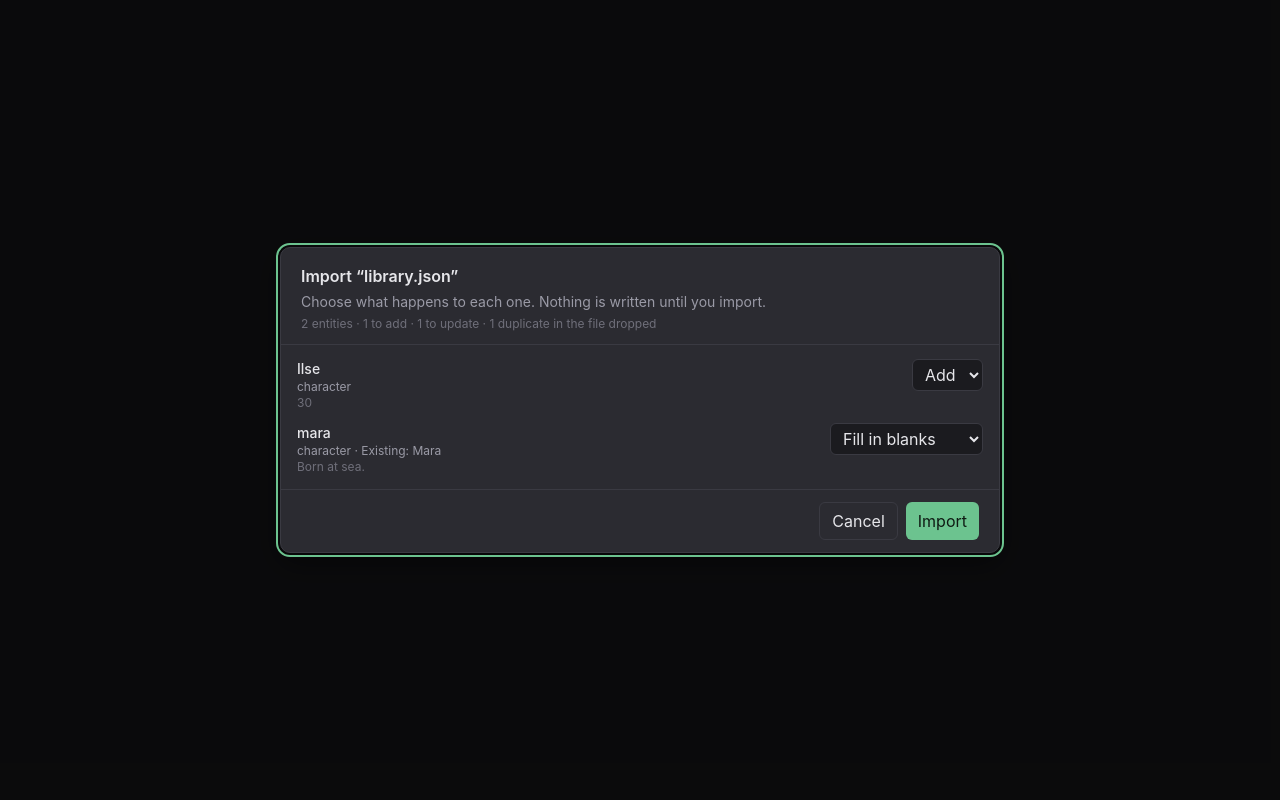
Test: EntityImportDialog (F-9.5) › Import is refused while every row is skipped
Select "Skip" in the dropdown named "Action for Ilse": (948,375) [912,359,983,391]
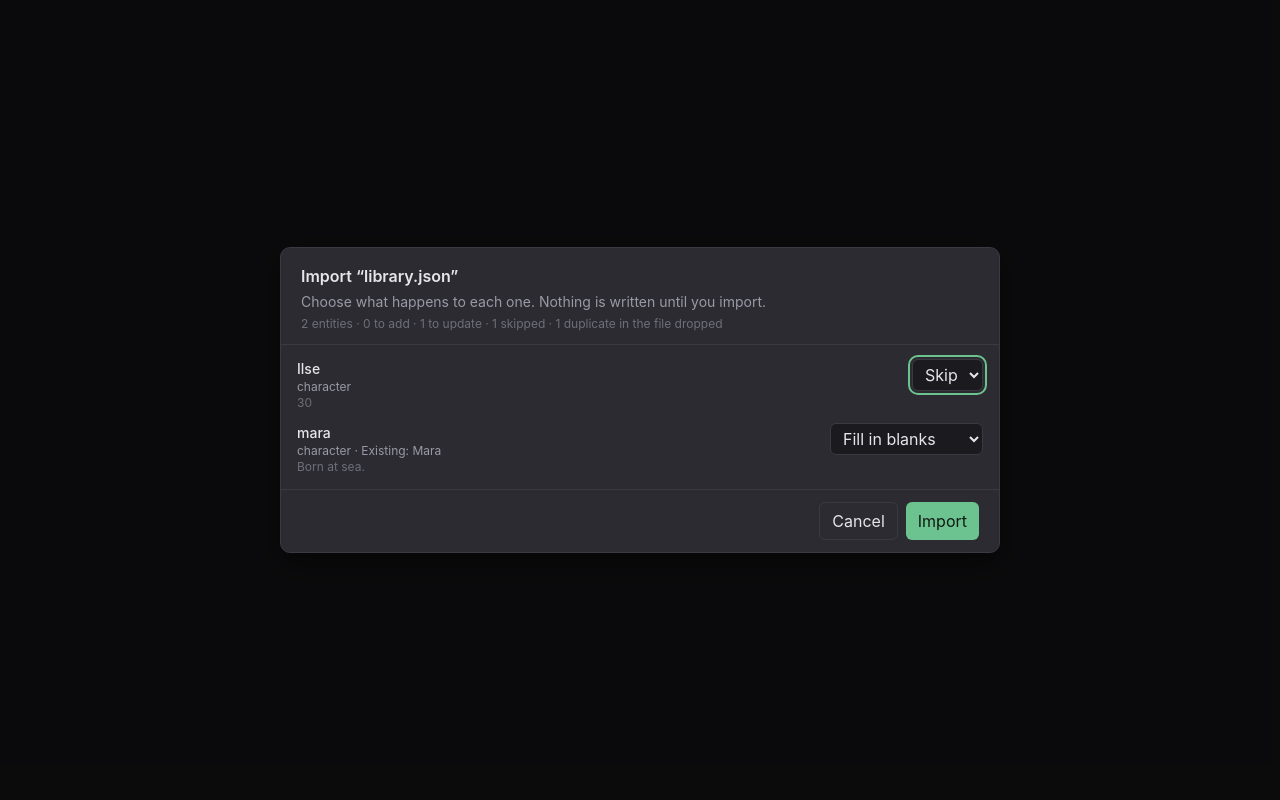
Select "Skip" in the dropdown named "Action for mara": (906,439) [830,423,983,455]
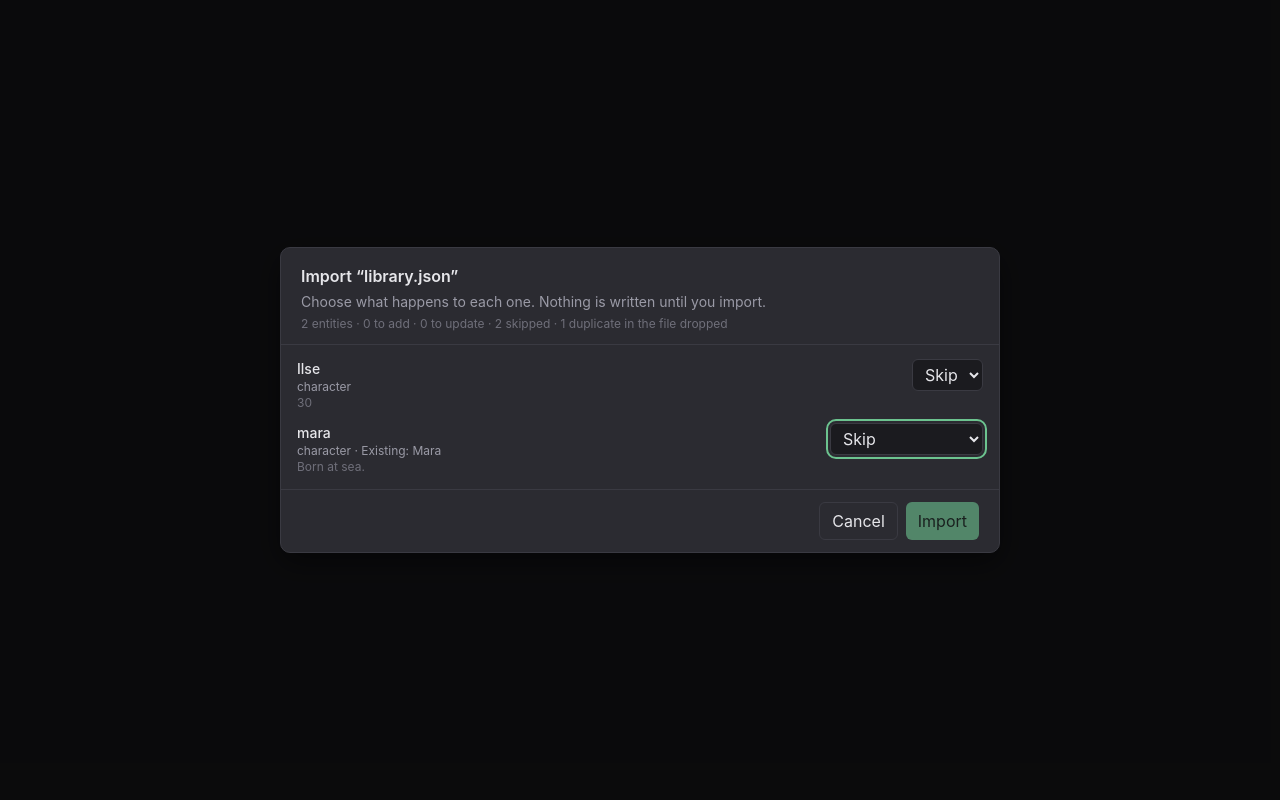
Check: the button with test id "entity-import-commit" is disabled, box [906,502,979,540]
